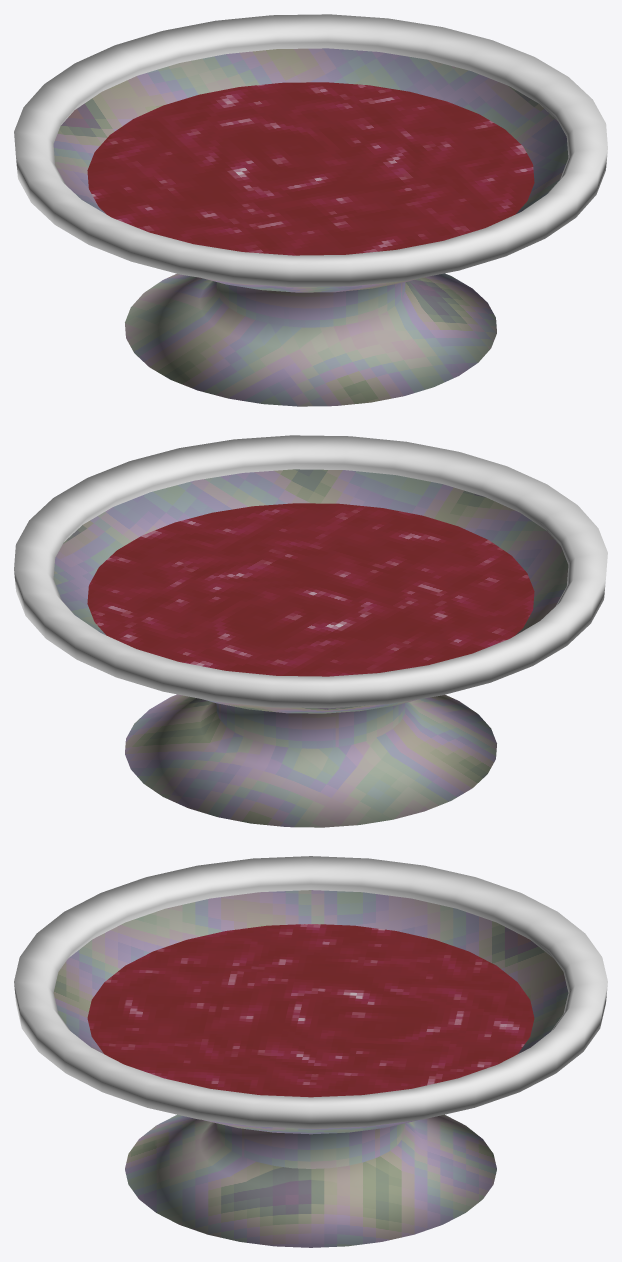
The model's file is SavePoint_Bowl 1.fbx.
The picture shows the model from 3 angles, top to bottom: view 1: azimuth 30°, elevation 25°; view 2: azimuth 150°, elevation 25°; view 3: azimuth 270°, elevation 25°; orthographic projection.
Visible parts, largest first — view 1: Cylinder.005, Cylinder.009; view 2: Cylinder.005, Cylinder.009; view 3: Cylinder.005, Cylinder.009.
Part boxes in pixels (x1=…): Cylinder.005: x1=14, y1=14, x2=607, y2=406; Cylinder.009: x1=87, y1=82, x2=534, y2=255; Cylinder.005: x1=14, y1=435, x2=607, y2=827; Cylinder.009: x1=87, y1=503, x2=534, y2=676; Cylinder.005: x1=14, y1=856, x2=607, y2=1247; Cylinder.009: x1=87, y1=924, x2=534, y2=1097.
Size of the model in its own units: 964 by 336 by 964.
